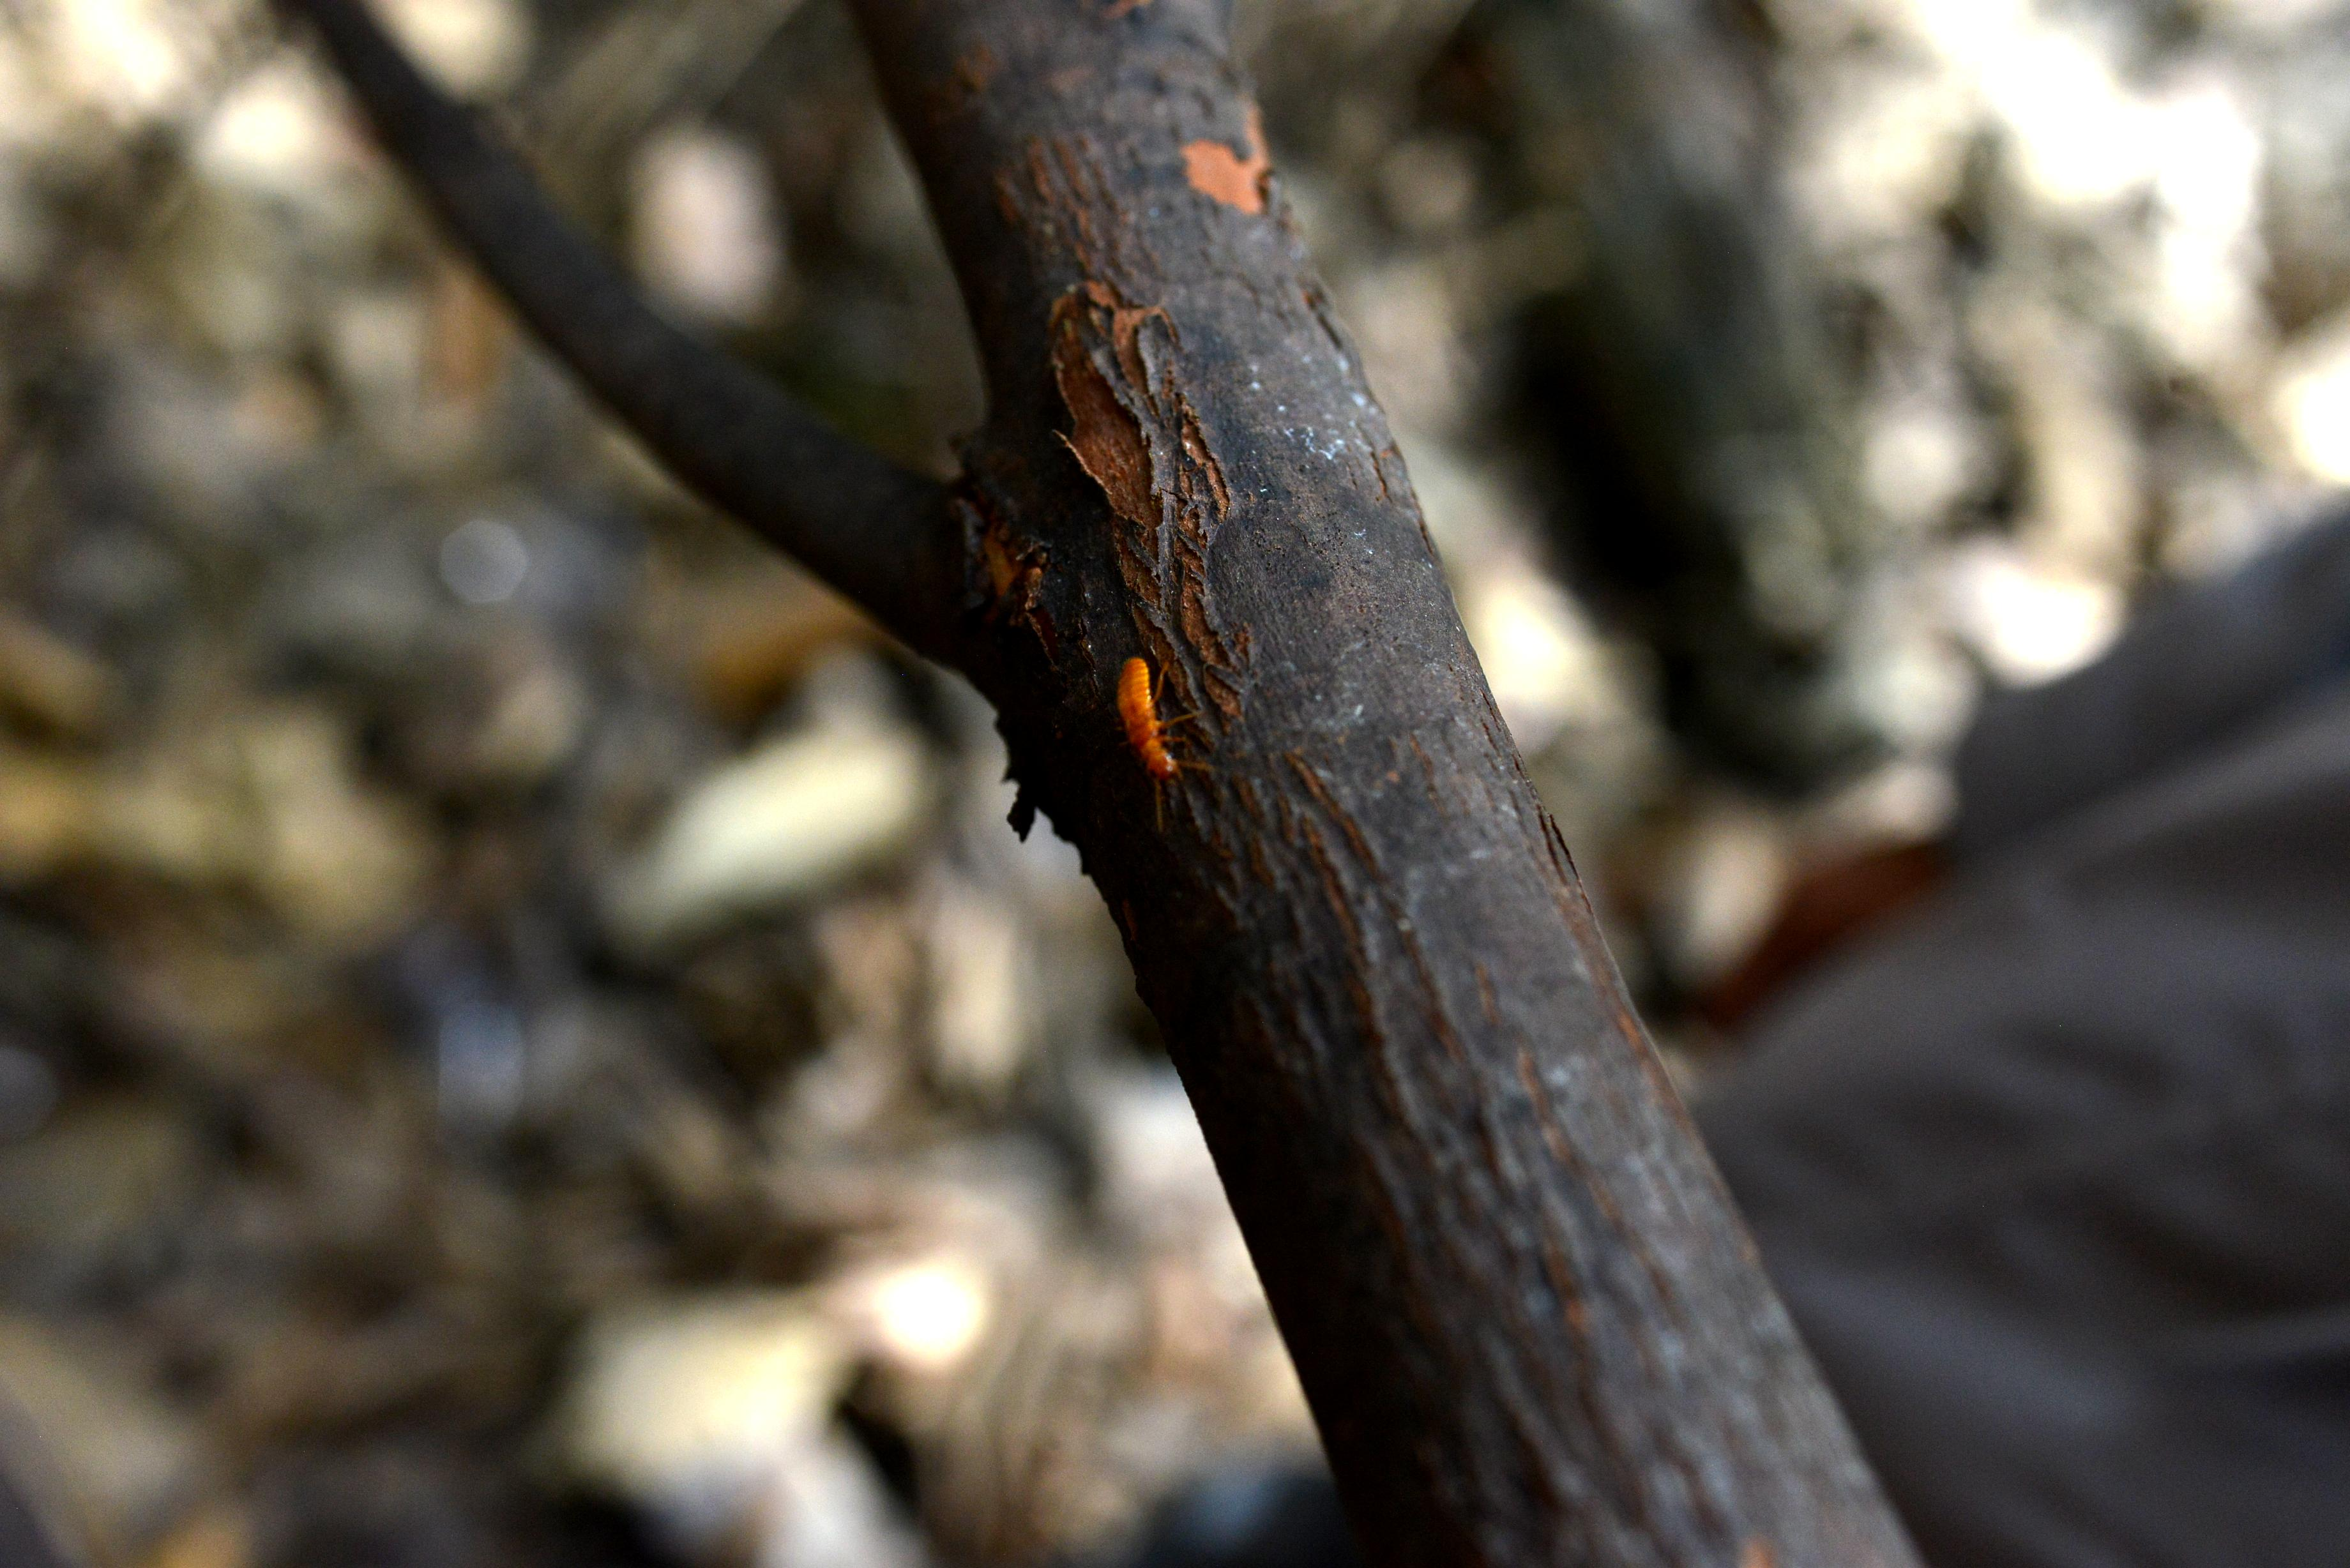Termite: (1111, 646, 1202, 801)
